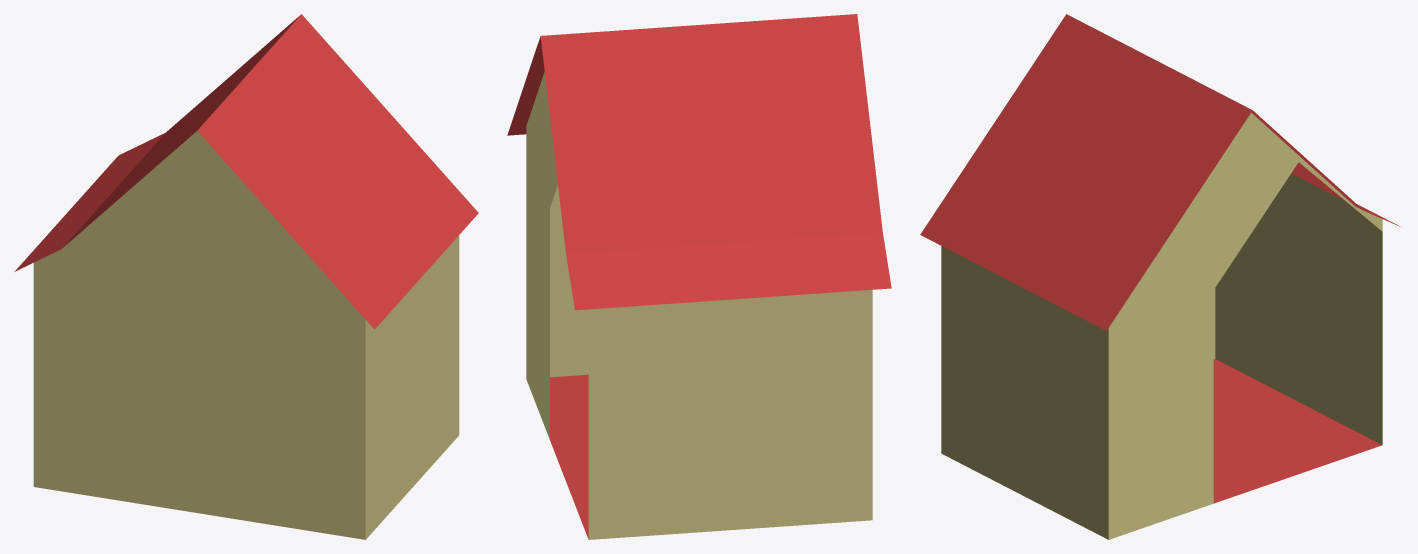
The picture shows the model from 3 angles, left to right: view 1: azimuth 30°, elevation 25°; view 2: azimuth 150°, elevation 25°; view 3: azimuth 270°, elevation 25°; orthographic projection. The views are drawn at different scales.
Size of the model in its own units: 15.53 by 15.95 by 14.12.
